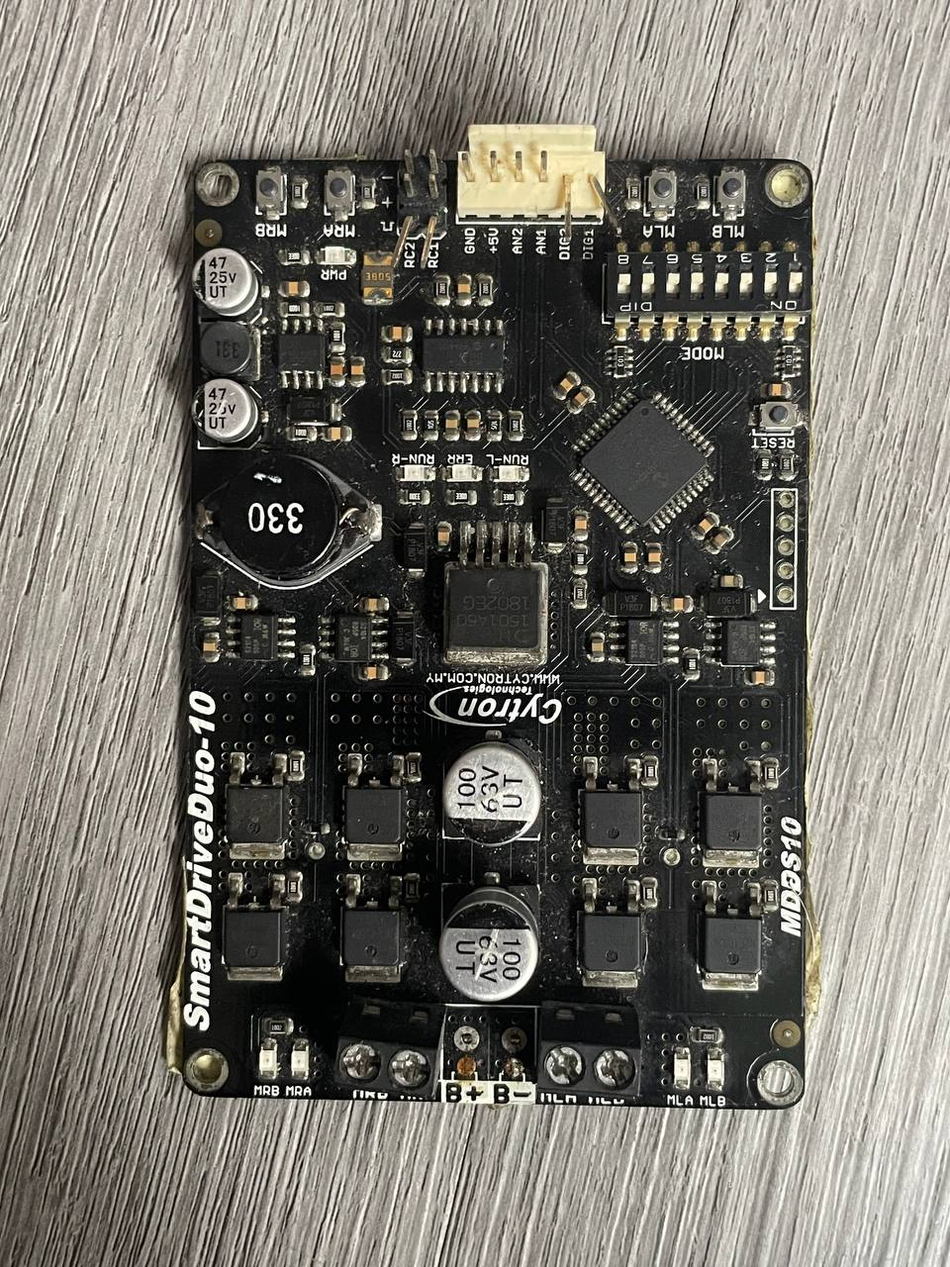bent_pin: (585, 172, 628, 240), (554, 170, 584, 245), (415, 213, 444, 275), (385, 212, 414, 271)
missing_tb: (441, 1005, 540, 1103)
